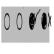correct: (29, 9, 41, 32)
not correct: (41, 8, 52, 31)
